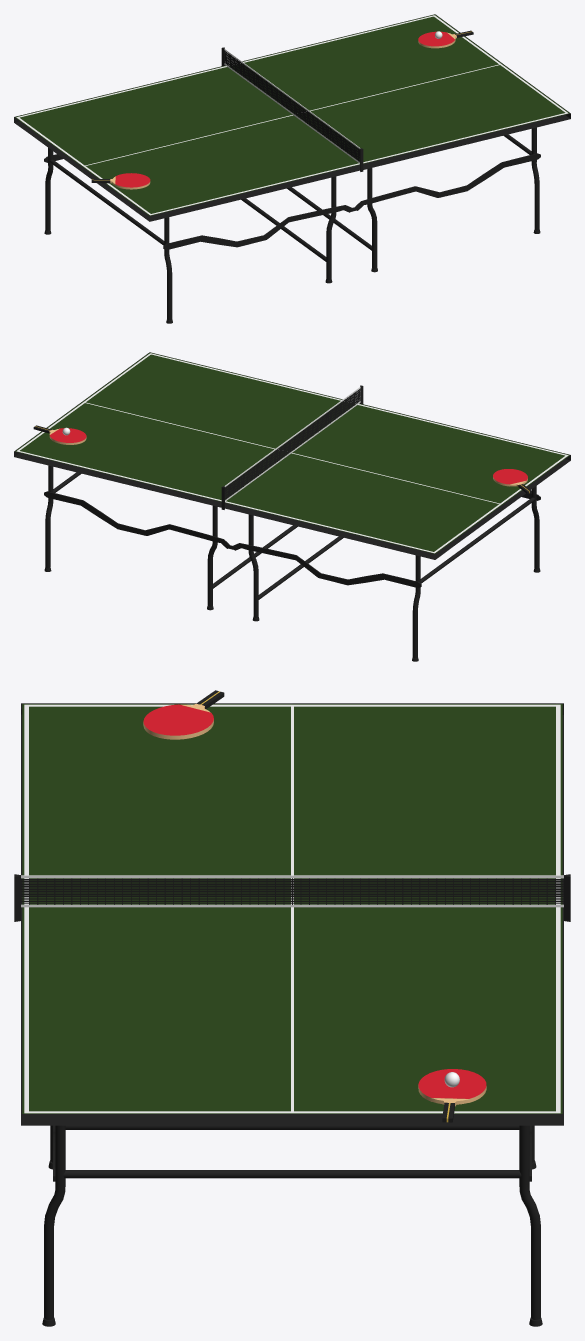
Rendered from uploads_files_1941657_PingPongTable.fbx.
The picture shows the model from 3 angles, top to bottom: view 1: azimuth 30°, elevation 25°; view 2: azimuth 150°, elevation 25°; view 3: azimuth 270°, elevation 25°; orthographic projection. The views are drawn at different scales.
Parts seen in each view (by area): view 1: Table, PaddleOne, PaddleTwo; view 2: Table, PaddleOne, PaddleTwo; view 3: Table, PaddleOne, PaddleTwo.
Part boxes in pixels (left/top/right/bottom): Table: left=14, top=14, right=570, bottom=323; PaddleOne: left=91, top=173, right=150, bottom=189; PaddleTwo: left=418, top=30, right=473, bottom=48; Table: left=14, top=352, right=570, bottom=661; PaddleOne: left=493, top=469, right=531, bottom=493; PaddleTwo: left=33, top=425, right=86, bottom=444; Table: left=14, top=703, right=570, bottom=1326; PaddleOne: left=143, top=690, right=224, bottom=739; PaddleTwo: left=418, top=1069, right=486, bottom=1122.
Size of what is drawn, in the model's own units: 286 by 83.77 by 157.
